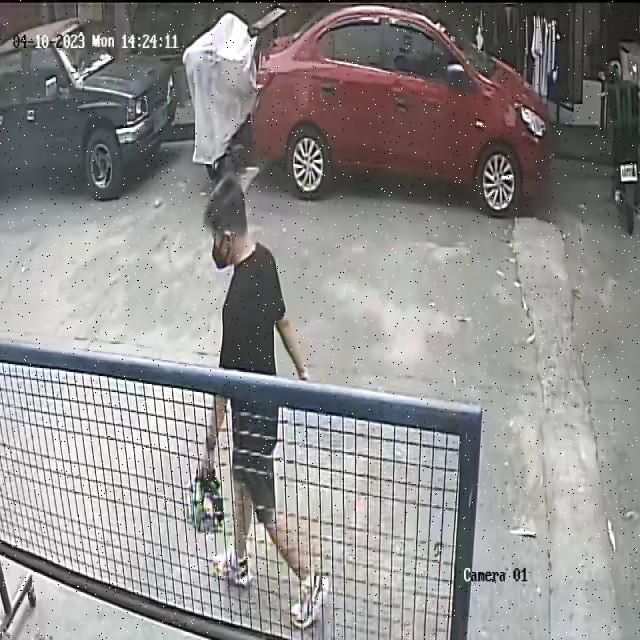garbage_dumping: (181, 461, 224, 539)
